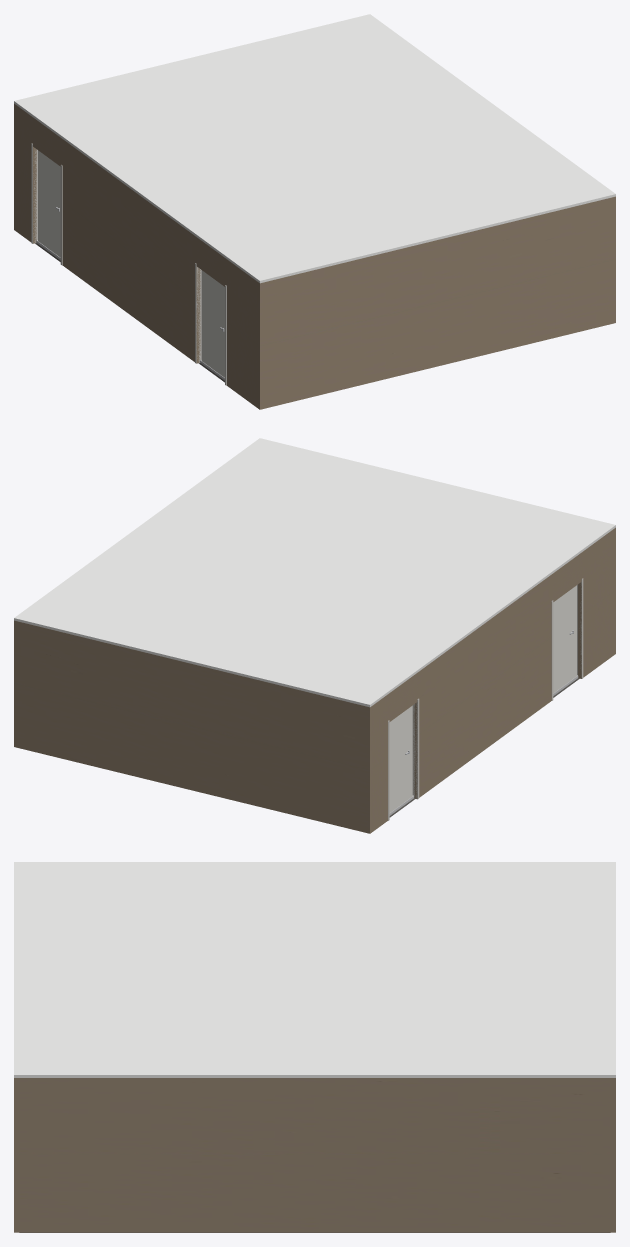
Rendered from room.glb.
3 views of the same model, one above another, from view 1: azimuth 30°, elevation 25°; view 2: azimuth 150°, elevation 25°; view 3: azimuth 270°, elevation 25° (orthographic). The views are drawn at different scales.
Parts seen in each view (by area): view 1: 天井, 壁_手前, 壁_左_1, DOOR_左壁, 壁_左_0, 壁_左_2, 壁_左_入口上, 壁_左_出口上; view 2: 天井, 壁_奥, 壁_左_1, DOOR_左壁, 壁_左_0, 壁_左_2, 壁_左_入口上, 壁_左_出口上, 枠_出口_a; view 3: 天井, 壁_右, 壁_奥, 壁_手前, 床.
Part boxes in pixels (x1,y1,x2,y2): 天井: (14,14,615,283); 壁_手前: (257,196,615,409); 壁_左_1: (61,138,200,363); DOOR_左壁: (37,150,224,377); 壁_左_0: (225,258,257,407); 壁_左_2: (16,105,36,243); 壁_左_入口上: (196,237,225,286); 壁_左_出口上: (33,117,61,166); 天井: (14,438,615,707); 壁_奥: (14,620,372,833); 壁_左_1: (413,574,552,798); DOOR_左壁: (389,585,577,812); 壁_左_0: (578,529,613,678); 壁_左_2: (372,693,389,831); 壁_左_入口上: (553,553,581,601); 壁_左_出口上: (389,673,417,721); 枠_出口_a: (413,698,419,799); 天井: (14,862,615,1077); 壁_右: (19,1078,610,1232); 壁_奥: (610,1078,615,1232); 壁_手前: (14,1078,19,1232); 床: (19,1232,610,1232).
Bounding box in the file's own units: 7.67 × 2.69 × 9.16.
Materials: 58 (2 with a texture image).
